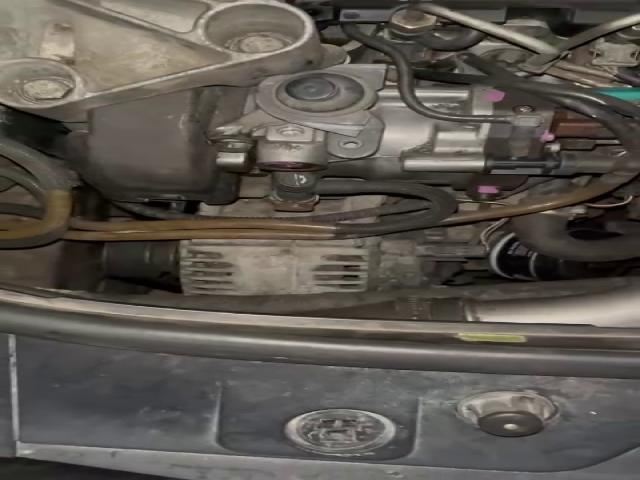alternator: (179, 237, 378, 295)
high_pressure_pump: (256, 85, 565, 198)
